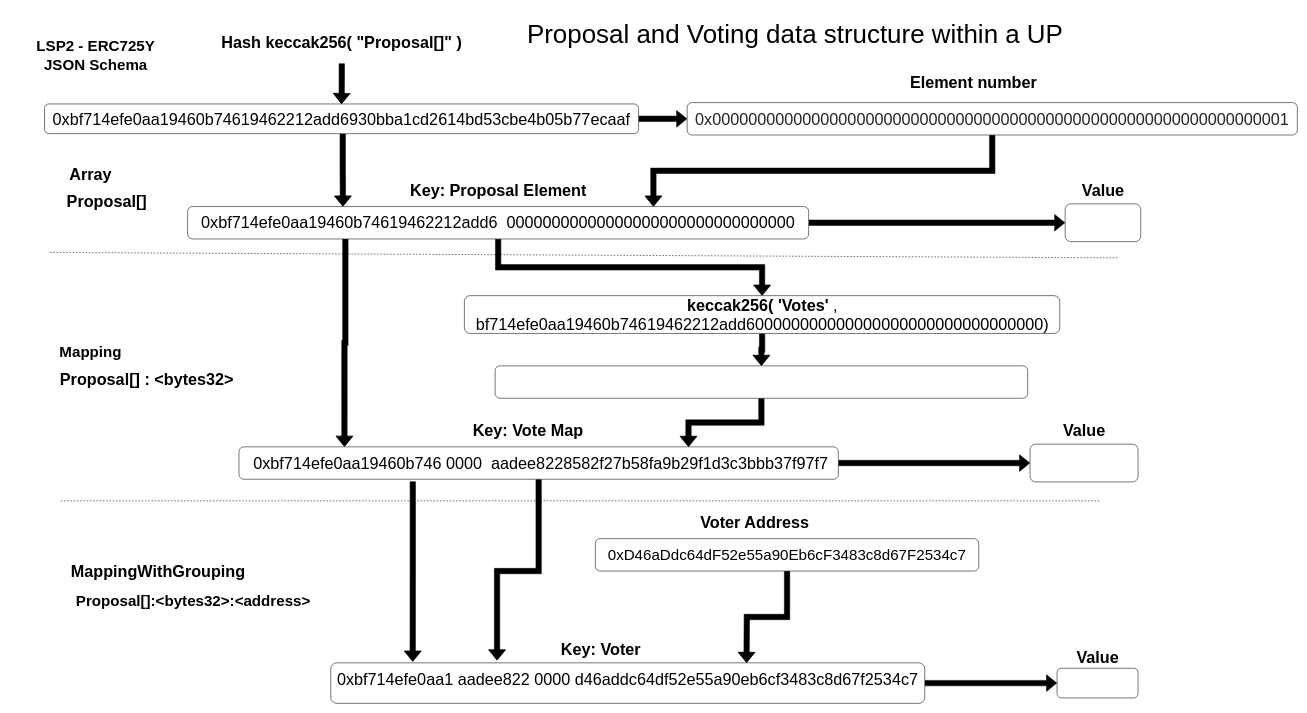
This 1307x713 diagram has some shape labels left out. Each missing label, with the centre of its shape:
"0xaadee8228582f27b58fa9b29f1d3c3bbb37f97f7177071ae99e9fce3a4bcb4d9" belongs at point (761, 381).
"Proposal Data" belongs at point (1103, 222).
"Vote Data for Proposal" belongs at point (1084, 463).
"Voter Data" belongs at point (1097, 683).
